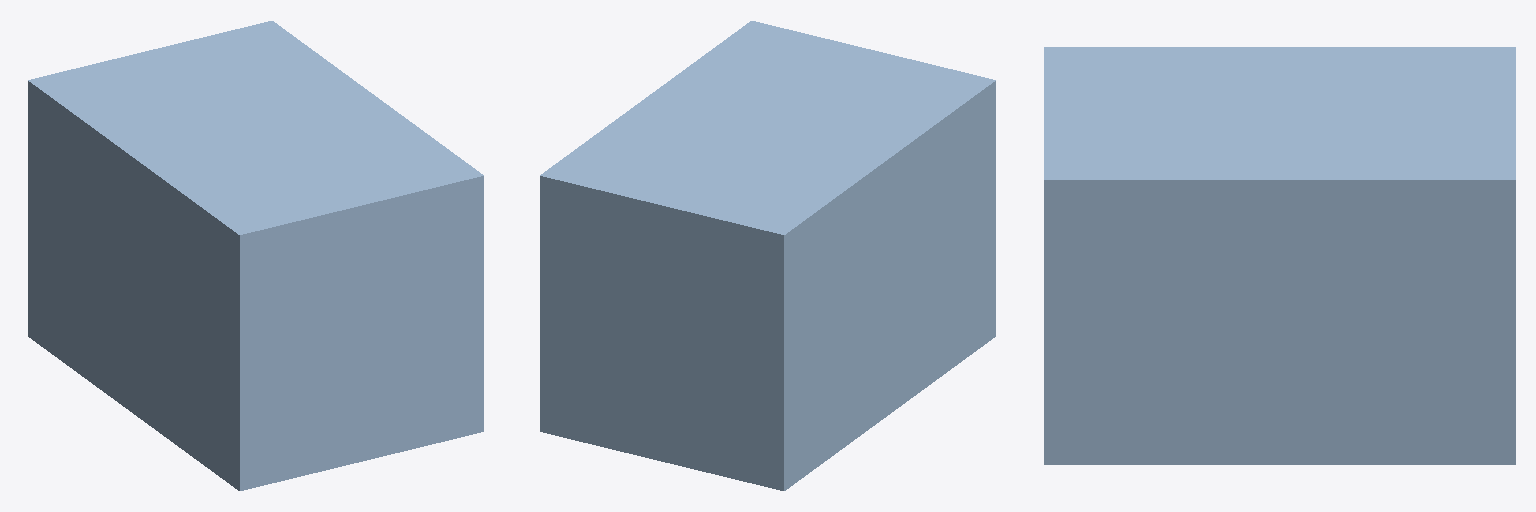
The robot description file, URDF, robot "box_0p4000_0p6000_0p4000":
<?xml version="1.0" ?>
<robot name="box_0p4000_0p6000_0p4000">
  <dynamics damping="0.5" friction="0.9"/>
  <link name="box_0p4000_0p6000_0p4000_link">
    <inertial>
      <mass value="0.1"/>
      <origin xyz="0 0 0"/>
      <inertia ixx="0.002" ixy="0" ixz="0" iyy="0.002" iyz="0" izz="0.002"/>
    </inertial>
    <contact>
      <lateral_friction value="0.9"/>
      <rolling_friction value="0.5"/>
      <stiffness value="30000"/>
      <damping value="1000"/>
    </contact>
    <visual>
      <origin rpy="0 0 0" xyz="0 0 0"/>
      <geometry>
        <mesh filename="box_0p4000_0p6000_0p4000.obj" scale="1.0 1.0 1.0"/>
      </geometry>
      <material name="mat">
        <color rgba="0.7 0.8 0.9 0.7"/>
      </material>
    </visual>
    <collision name="box_0p4000_0p6000_0p4000">
      <origin rpy="0 0 0" xyz="0 0 0"/>
      <geometry>
        <mesh filename="box_0p4000_0p6000_0p4000.obj" scale="1.0 1.0 1.0"/>
      </geometry>
    </collision>
  </link>
</robot>

--- Facts derived from the render (not from the file) ---
3 views of the same robot in one strip: view 1: azimuth 30°, elevation 25°; view 2: azimuth 150°, elevation 25°; view 3: azimuth 270°, elevation 25° (orthographic).
Model box_0p4000_0p6000_0p4000 with 1 links and 0 joints (none), rooted at box_0p4000_0p6000_0p4000_link, posed every joint at zero.
Links seen in each view (by area): view 1: box_0p4000_0p6000_0p4000_link; view 2: box_0p4000_0p6000_0p4000_link; view 3: box_0p4000_0p6000_0p4000_link.
Link boxes in pixels (left/top/right/bottom): box_0p4000_0p6000_0p4000_link: left=28, top=21, right=483, bottom=490; box_0p4000_0p6000_0p4000_link: left=540, top=21, right=995, bottom=490; box_0p4000_0p6000_0p4000_link: left=1044, top=47, right=1515, bottom=464.
Size in the robot's own frame: 0.4 by 0.6 by 0.4 metres.
Meshes: 1 distinct files referenced, 1 mesh visuals loaded (1 OBJ).
